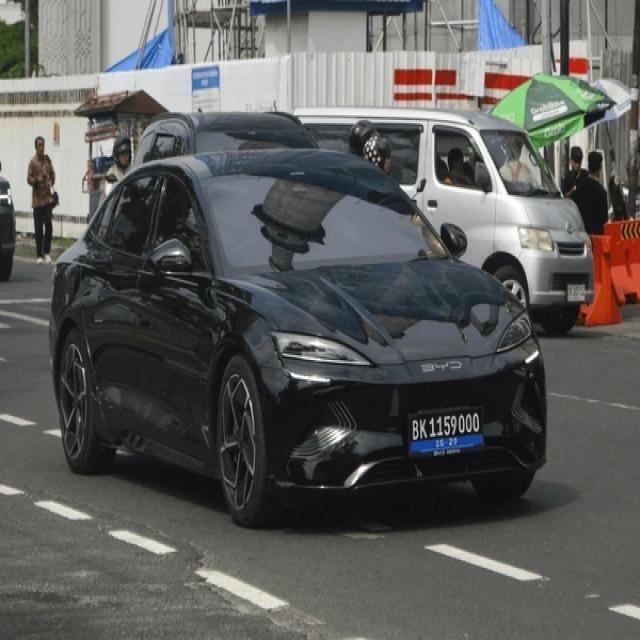byd: (419, 357, 463, 376)
